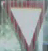Give way: (4, 3, 44, 49)
